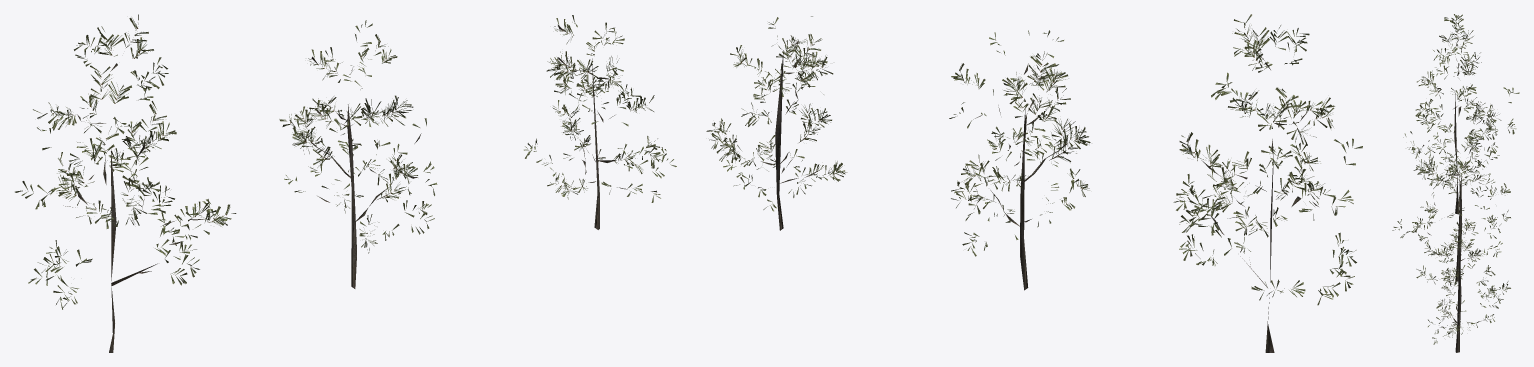
Rendered from pine_sapling_small_lod1.glb.
The picture shows the model from 3 angles, left to right: view 1: azimuth 30°, elevation 25°; view 2: azimuth 150°, elevation 25°; view 3: azimuth 270°, elevation 25°; orthographic projection. The views are drawn at different scales.
Parts seen in each view (by area): view 1: pine_sapling_small_a, pine_sapling_small_b, pine_sapling_small_c; view 2: pine_sapling_small_a, pine_sapling_small_b, pine_sapling_small_c; view 3: pine_sapling_small_a, pine_sapling_small_b, pine_sapling_small_c.
Boxes of the visible parts, x1=… form: pine_sapling_small_a: x1=15, y1=14, x2=236, y2=352; pine_sapling_small_b: x1=279, y1=20, x2=437, y2=288; pine_sapling_small_c: x1=524, y1=15, x2=676, y2=229; pine_sapling_small_a: x1=1173, y1=14, x2=1362, y2=352; pine_sapling_small_b: x1=949, y1=30, x2=1090, y2=290; pine_sapling_small_c: x1=706, y1=16, x2=847, y2=230; pine_sapling_small_a: x1=1403, y1=14, x2=1519, y2=214; pine_sapling_small_b: x1=1392, y1=129, x2=1510, y2=281; pine_sapling_small_c: x1=1416, y1=217, x2=1510, y2=352.
Size of the model in its own units: 2.61 by 1.29 by 0.7677.
Materials: 2 (2 with a texture image).
